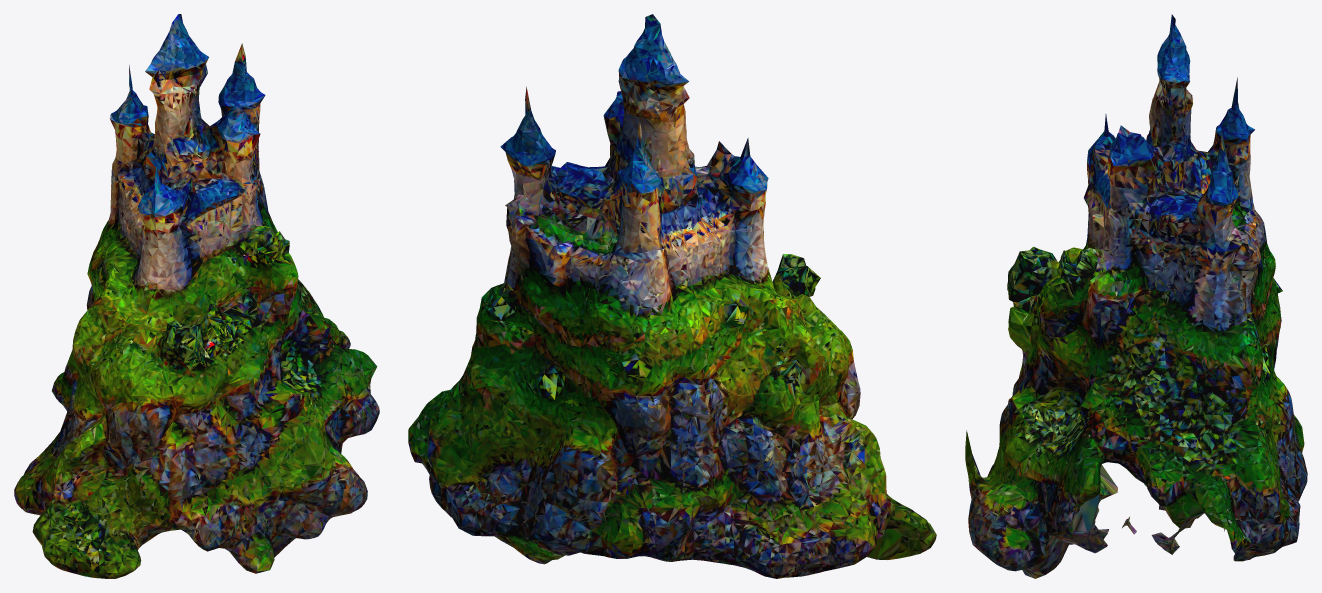
The model's file is castle-scribble.glb.
3 renders of one model, left to right at view 1: azimuth 30°, elevation 25°; view 2: azimuth 150°, elevation 25°; view 3: azimuth 270°, elevation 25°, orthographic. The views are drawn at different scales.
Visible parts, largest first — view 1: extracted_mesh; view 2: extracted_mesh; view 3: extracted_mesh.
Part boxes in pixels (box(x1,y1,x2,y2)): extracted_mesh: box(14, 14, 379, 578); extracted_mesh: box(408, 14, 936, 578); extracted_mesh: box(965, 14, 1307, 578).
Bounding box in the file's own units: 1.01 × 1.3 × 0.7291.
Materials: 1 (1 with a texture image).
